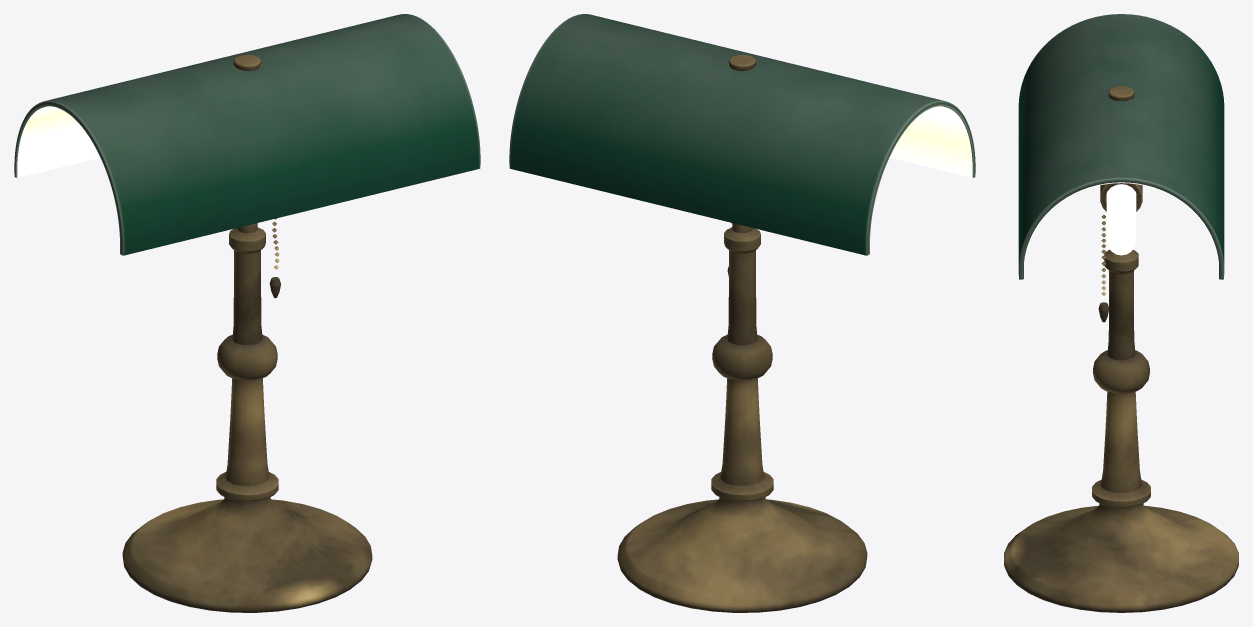
The model's file is banker-lamp.glb.
The picture shows the model from 3 angles, left to right: view 1: azimuth 30°, elevation 25°; view 2: azimuth 150°, elevation 25°; view 3: azimuth 270°, elevation 25°; orthographic projection. The views are drawn at different scales.
Visible parts, largest first — view 1: shade, lamp_body, shade_glow; view 2: shade, lamp_body, shade_glow; view 3: shade, lamp_body, bulb, shade_glow, pull_chain.
Boxes of the visible parts, x1,y1,x2,y2 form: shade: [14, 14, 480, 255]; lamp_body: [122, 55, 372, 612]; shade_glow: [17, 106, 100, 177]; shade: [509, 14, 975, 255]; lamp_body: [617, 55, 867, 612]; shade_glow: [889, 106, 972, 177]; shade: [1018, 14, 1224, 279]; lamp_body: [1004, 86, 1238, 612]; bulb: [1106, 184, 1136, 255]; shade_glow: [1024, 182, 1218, 272]; pull_chain: [1098, 215, 1108, 322].
Bounding box in the file's own units: 0.3 × 0.4016 × 0.1802.
3 materials, 1 textured.
